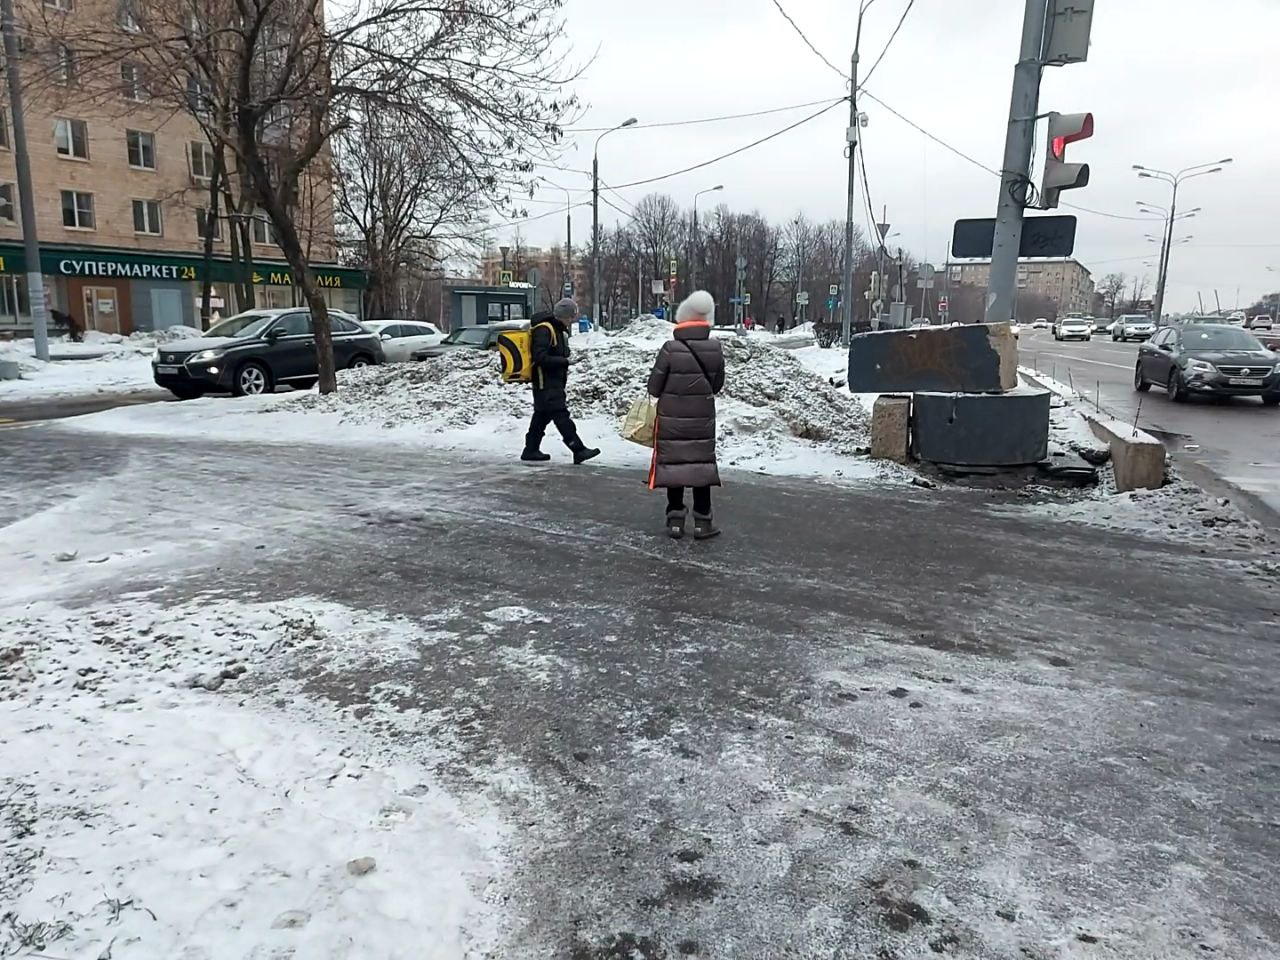sombie: (481, 292, 608, 485)
